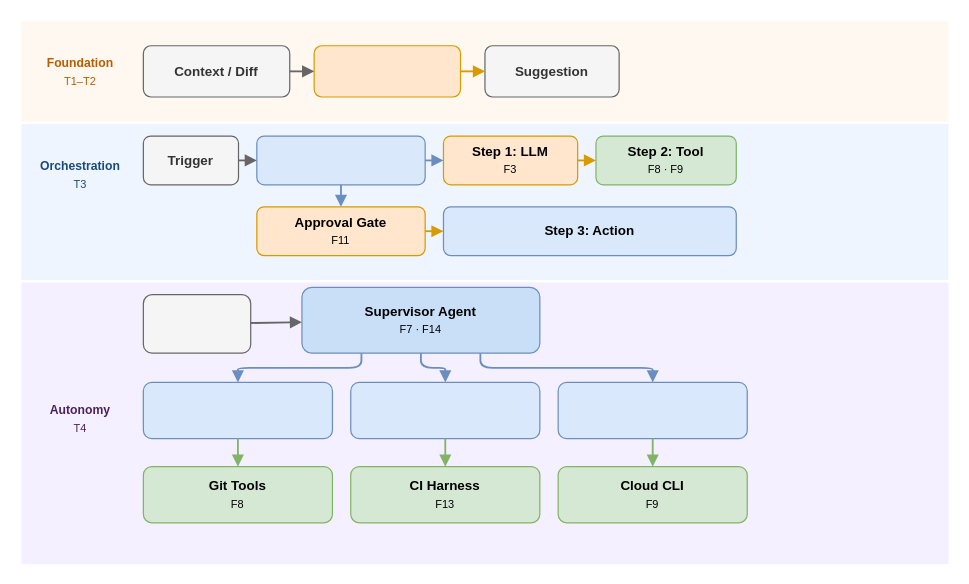
The diagram is 969 pixels wide and 584 high, and some of its shapes have lost their labels. The shapes that lost their labels are listed below. From the top down, each one's box as (x1, y1, x2, y2) in pixels, then its label:
(313, 45, 461, 97): Code LLM F3 · F7
(256, 135, 425, 185): Workflow Engine F7 · F14
(142, 293, 251, 353): Objective
(142, 381, 332, 439): Coder Agent F7 · F8
(350, 381, 540, 439): Tester Agent F13
(557, 381, 747, 439): DevOps Agent F9
